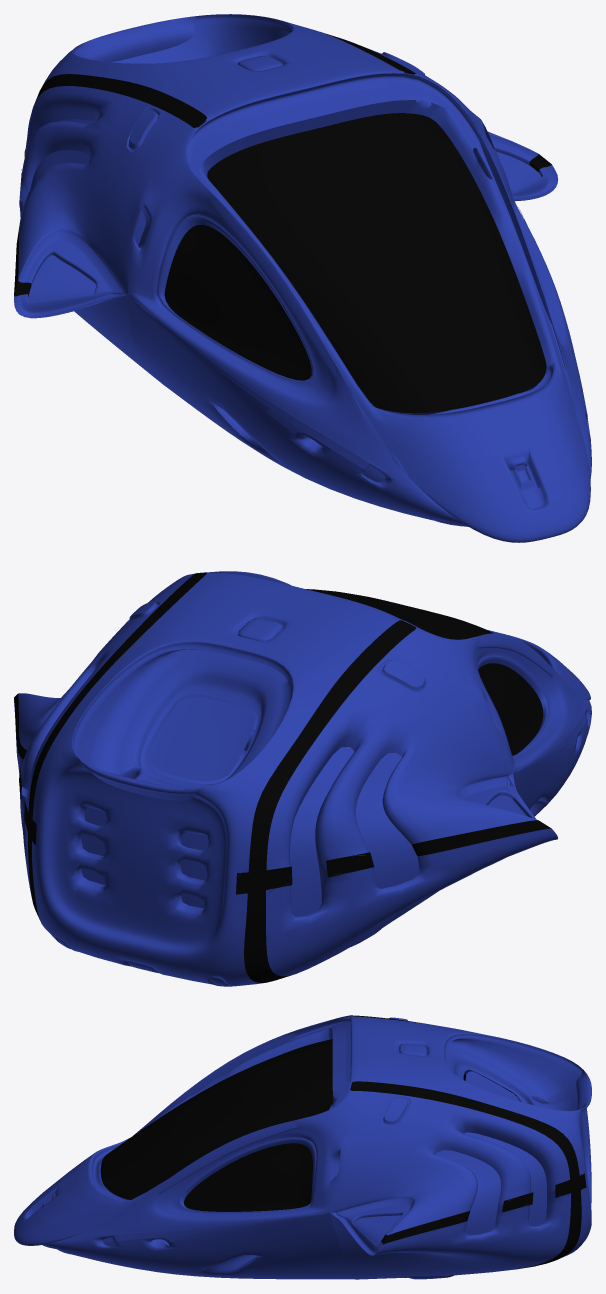
The model's file is Car_Navigator.fbx.
3 views of the same model, one above another, from view 1: azimuth 30°, elevation 25°; view 2: azimuth 150°, elevation 25°; view 3: azimuth 270°, elevation 25° (orthographic). The views are drawn at different scales.
Parts seen in each view (by area): view 1: Navigator; view 2: Navigator; view 3: Navigator.
Boxes of the visible parts, box(x1,y1,x2,y2) form: Navigator: box(14, 14, 591, 542); Navigator: box(14, 571, 591, 986); Navigator: box(14, 1015, 591, 1279).
Bounding box in the file's own units: 212 × 110 × 281.
